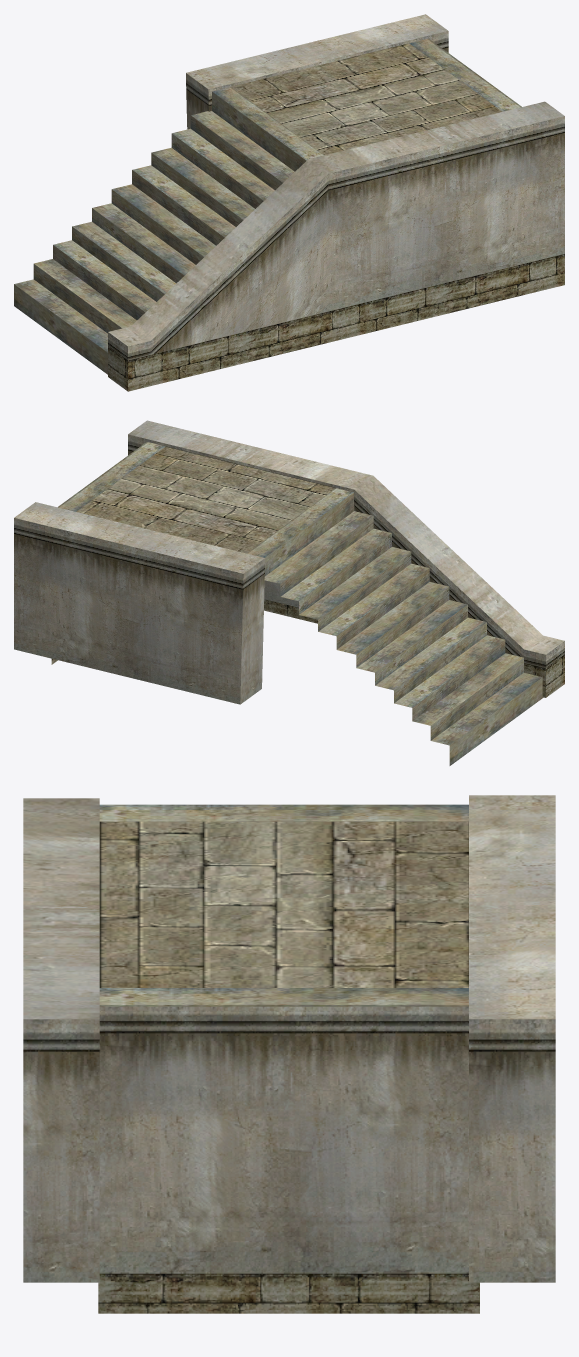
The model's file is rd_sta1.glb.
The picture shows the model from 3 angles, top to bottom: view 1: azimuth 30°, elevation 25°; view 2: azimuth 150°, elevation 25°; view 3: azimuth 270°, elevation 25°; orthographic projection. The views are drawn at different scales.
Parts seen in each view (by area): view 1: rd_sta1-col; view 2: rd_sta1-col; view 3: rd_sta1-col.
Part boxes in pixels (box(x1,y1,x2,y2)): rd_sta1-col: box(14, 14, 564, 391); rd_sta1-col: box(14, 420, 564, 765); rd_sta1-col: box(23, 795, 555, 1313).
Bounding box in the file's own units: 8.86 × 3.3 × 4.89.
2 materials, 2 textured.
